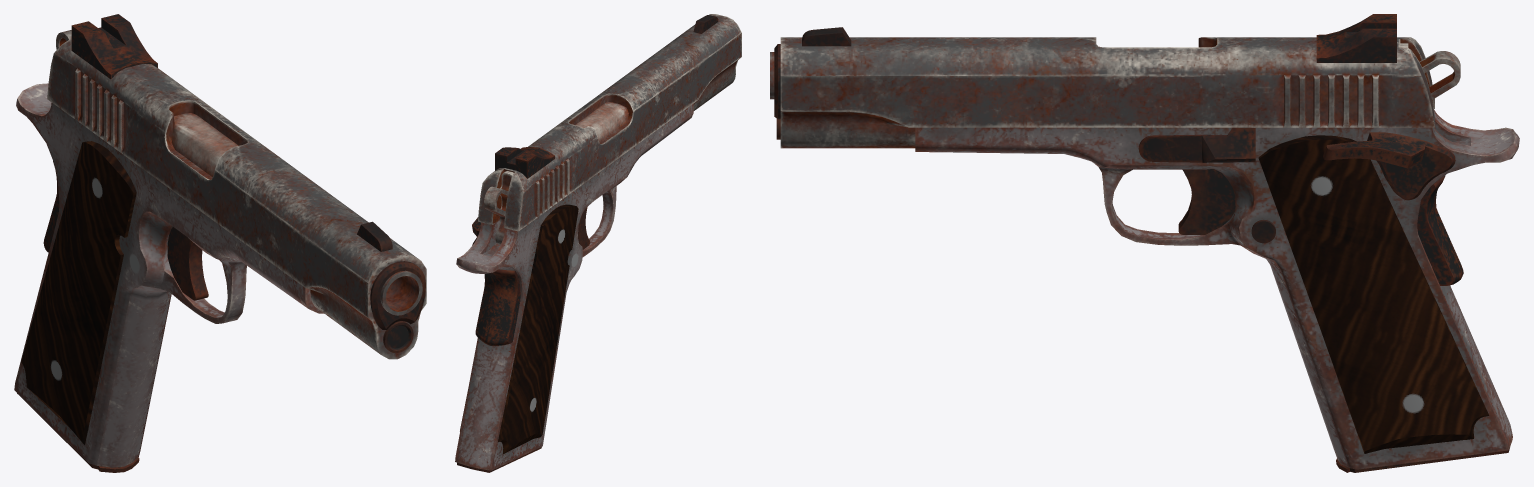
The model's file is Colt.gltf.
The picture shows the model from 3 angles, left to right: view 1: azimuth 30°, elevation 25°; view 2: azimuth 150°, elevation 25°; view 3: azimuth 270°, elevation 25°; orthographic projection. The views are drawn at different scales.
Parts seen in each view (by area): view 1: 0; view 2: 0; view 3: 0.
Part boxes in pixels (x1,y1,x2,y2): 0: (14, 14, 426, 472); 0: (455, 14, 741, 472); 0: (770, 14, 1519, 472).
Bounding box in the file's own units: 192 × 928 × 1437.
Materials: 1 (1 with a texture image).
